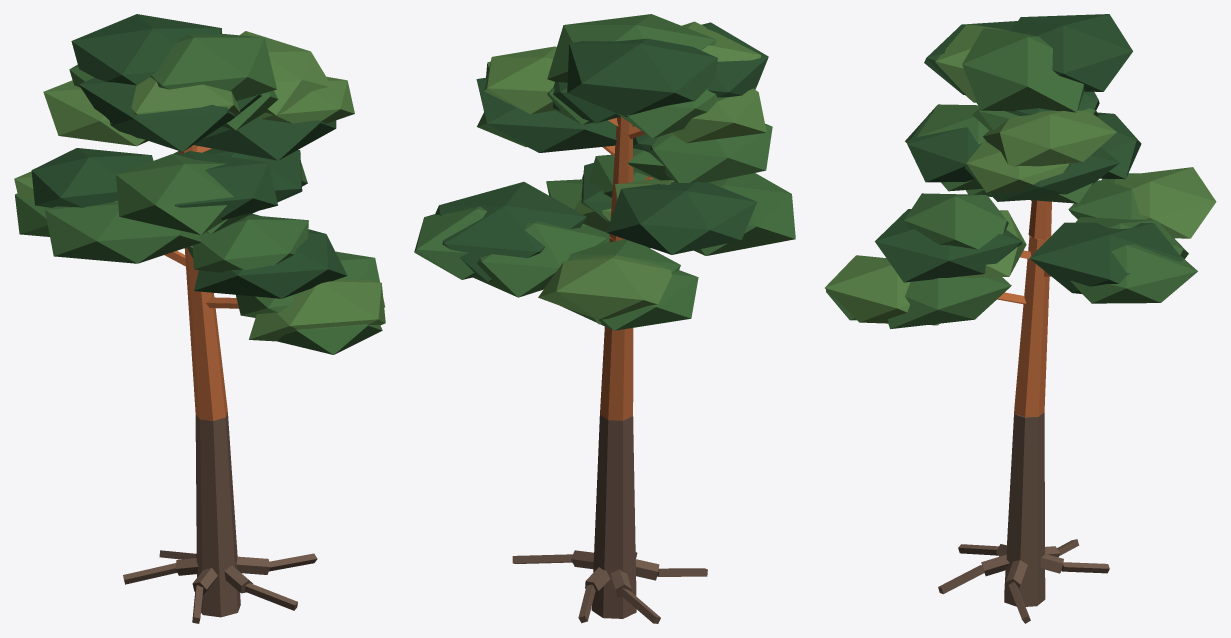
The model's file is tall_1.glb.
3 views of the same model, side by side, from view 1: azimuth 30°, elevation 25°; view 2: azimuth 150°, elevation 25°; view 3: azimuth 270°, elevation 25° (orthographic). The views are drawn at different scales.
Visible parts, largest first — view 1: tall_1; view 2: tall_1; view 3: tall_1.
Boxes of the visible parts, box(x1,y1,x2,y2) form: tall_1: box(14, 14, 385, 623); tall_1: box(414, 14, 795, 623); tall_1: box(825, 14, 1216, 623).
Size of the model in its own units: 6.51 by 11.87 by 7.63.
